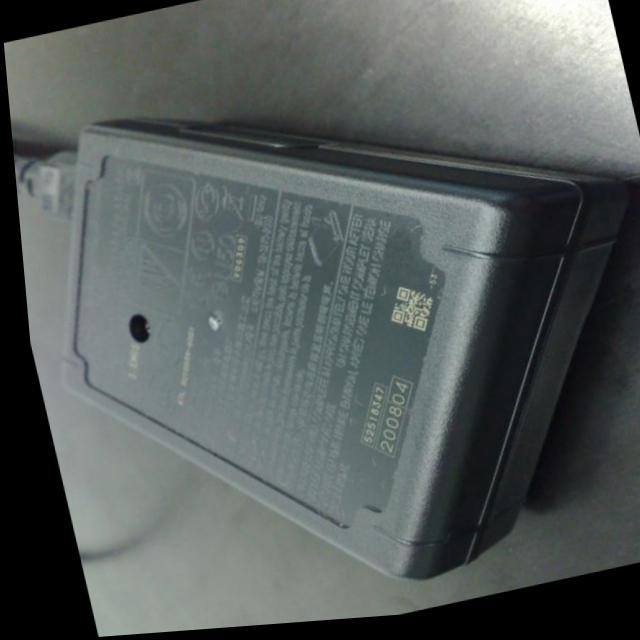qrcode: (380, 286, 436, 344)
